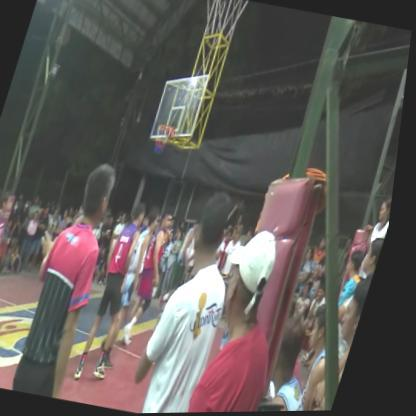rim: (149, 116, 183, 165)
